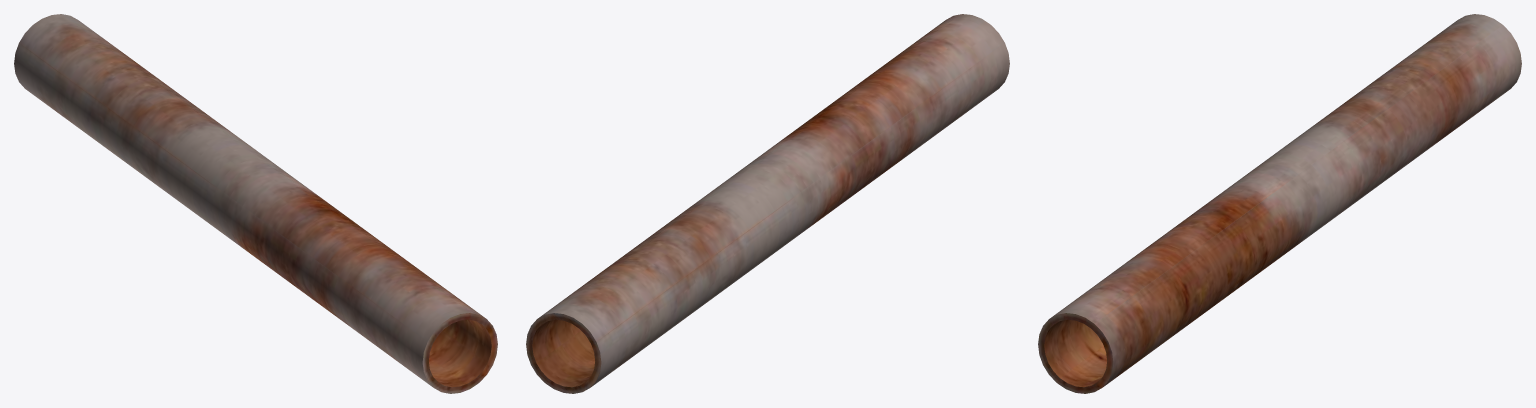
Rendered from small_steel_pipe_07.glb.
3 views of the same model, side by side, from view 1: azimuth 30°, elevation 25°; view 2: azimuth 150°, elevation 25°; view 3: azimuth 330°, elevation 25° (orthographic).
Visible parts, largest first — view 1: small_steel_pipe_07; view 2: small_steel_pipe_07; view 3: small_steel_pipe_07.
Part boxes in pixels (left/top/right/bottom): small_steel_pipe_07: left=14, top=14, right=497, bottom=393; small_steel_pipe_07: left=526, top=14, right=1009, bottom=393; small_steel_pipe_07: left=1038, top=14, right=1521, bottom=393.
Size of what is drawn, in the model's own units: 0.0202 by 0.0202 by 0.19.
1 material, 1 textured.
